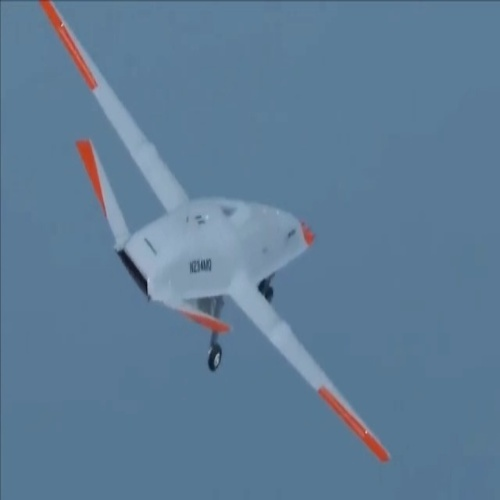uav928: (41, 1, 393, 464)
